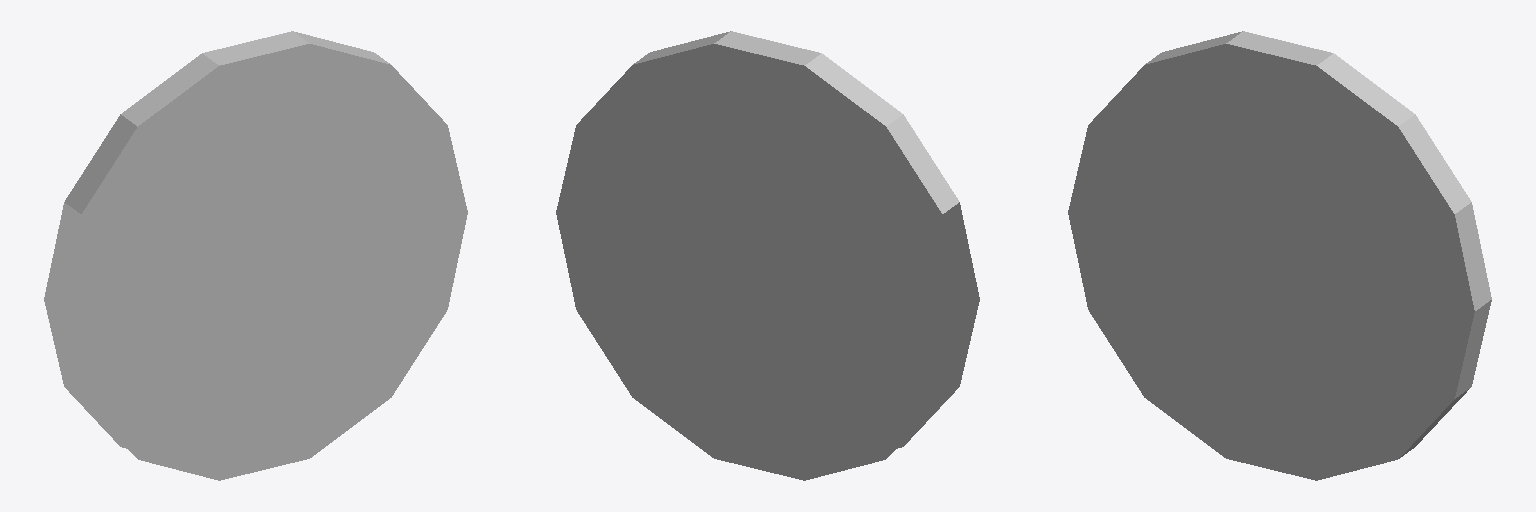
File: city_lavanderia4.obj
The picture shows the model from 3 angles: view 1: azimuth 30°, elevation 25°; view 2: azimuth 150°, elevation 25°; view 3: azimuth 330°, elevation 25°; orthographic projection.
Parts seen in each view (by area): view 1: pasted__pCylinder9; view 2: pasted__pCylinder9; view 3: pasted__pCylinder9.
Part boxes in pixels (bbox=[...]): pasted__pCylinder9: bbox=[44, 31, 467, 480]; pasted__pCylinder9: bbox=[556, 31, 979, 480]; pasted__pCylinder9: bbox=[1068, 31, 1491, 480].
Size of the model in its own units: 3.38 by 3.29 by 0.2466.